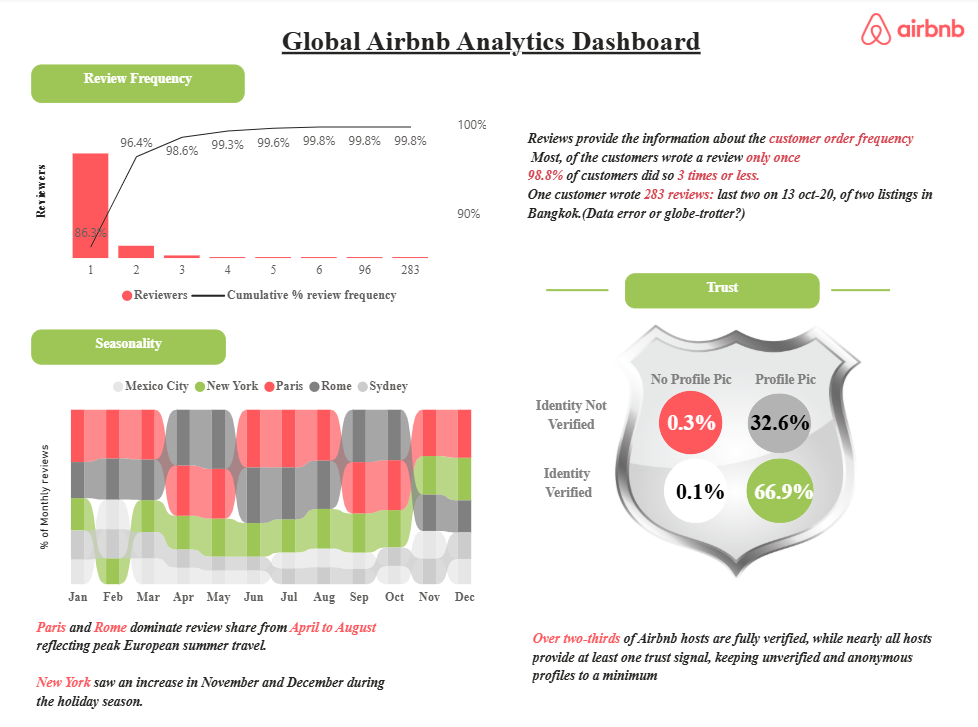

Layout of this report page (visuals, bound fields, positions):
{"tool":"powerbi","page":{"name":"Reviews","canvas":[960,720],"ordinal":2},"visuals":[{"type":"textbox","box":[254.3,23.2,452.4,62.4],"z":0},{"type":"image","box":[842.5,8,101.1,46],"z":1000},{"type":"textbox","box":[30.6,66,209.1,37.9],"z":2000},{"type":"textbox","box":[511.1,123.5,432.9,130.8],"z":3000},{"type":"textbox","box":[611.4,270.2,190.8,34.2],"z":4000},{"type":"shape","box":[534.4,211.6,61.1,150.4],"z":5000},{"type":"shape","box":[813.2,211.6,57.5,150.4],"z":6000},{"type":"image","box":[480.6,254.3,479.4,384],"z":9000},{"type":"shape","box":[644.4,385.2,62.4,62.4],"z":10000},{"type":"shape","box":[730,451.2,66,63.6],"z":11000},{"type":"shape","box":[649.3,451.2,62.4,63.6],"z":12000},{"type":"shape","box":[731.3,387.6,62.4,58.7],"z":13000},{"type":"cardVisual","fields":{"Data":["Listings.Verified_Profile %"]},"box":[703.1,426.8,128.4,112.5],"z":14000},{"type":"cardVisual","fields":{"Data":["Listings.Verified_NoProfile %"]},"box":[621.2,426.8,128.4,112.5],"z":15000},{"type":"cardVisual","fields":{"Data":["Listings.NotVerified_NoProfile %"]},"box":[612.6,359.5,128.4,112.5],"z":16000},{"type":"cardVisual","fields":{"Data":["Listings.NotVerified_Profile %"]},"box":[699.5,359.5,128.4,112.5],"z":17000},{"type":"textbox","box":[30.6,325.3,190.8,34.2],"z":18000},{"type":"textbox","box":[512.4,385.2,92.9,51.4],"z":19000},{"type":"textbox","box":[512.4,451.2,84.4,51.4],"z":20000},{"type":"textbox","box":[621.2,359.5,110.1,28.1],"z":21000},{"type":"textbox","box":[711.7,359.5,110.1,28.1],"z":22000},{"type":"textbox","box":[516,612.6,408.4,84.4],"z":22001},{"type":"ribbonChart","fields":{"Category":["Reviews.Review Month"],"Y":["Reviews.% of Monthly reviews"],"Series":["Listings.city"]},"box":[33,362,447.6,239.7],"z":22002},{"type":"textbox","box":[30.6,601.6,364.4,118.6],"z":22003},{"type":"lineStackedColumnComboChart","fields":{"Y":["Reviews.Reviewers"],"Category":["Reviews.Reviews per reviewer"],"Y2":["Reviews.Cumulative % review frequency"]},"box":[30.6,111.3,450,199.3],"z":22004}]}

Visuals, with their boxes in screenshot pixels (x1, y1, x2, y2), scaled from the page's 960x720 canvas onto the 978x727 screenshot:
textbox: [left=259, top=23, right=720, bottom=86]
image: [left=858, top=8, right=961, bottom=55]
textbox: [left=31, top=67, right=244, bottom=105]
textbox: [left=521, top=125, right=962, bottom=257]
textbox: [left=623, top=273, right=817, bottom=307]
shape: [left=544, top=214, right=607, bottom=366]
shape: [left=828, top=214, right=887, bottom=366]
image: [left=490, top=257, right=977, bottom=645]
shape: [left=656, top=389, right=720, bottom=452]
shape: [left=744, top=456, right=811, bottom=520]
shape: [left=661, top=456, right=725, bottom=520]
shape: [left=745, top=391, right=809, bottom=451]
cardVisual - Listings.Verified_Profile %: [left=716, top=431, right=847, bottom=545]
cardVisual - Listings.Verified_NoProfile %: [left=633, top=431, right=764, bottom=545]
cardVisual - Listings.NotVerified_NoProfile %: [left=624, top=363, right=755, bottom=477]
cardVisual - Listings.NotVerified_Profile %: [left=713, top=363, right=843, bottom=477]
textbox: [left=31, top=328, right=226, bottom=363]
textbox: [left=522, top=389, right=617, bottom=441]
textbox: [left=522, top=456, right=608, bottom=507]
textbox: [left=633, top=363, right=745, bottom=391]
textbox: [left=725, top=363, right=837, bottom=391]
textbox: [left=526, top=619, right=942, bottom=704]
ribbonChart - Reviews.Review Month x Reviews.% of Monthly reviews: [left=34, top=366, right=490, bottom=608]
textbox: [left=31, top=607, right=402, bottom=726]
lineStackedColumnComboChart - Reviews.Reviewers x Reviews.Reviews per reviewer: [left=31, top=112, right=490, bottom=314]
